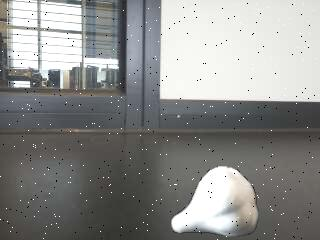Garlic: (168, 164, 260, 240)
